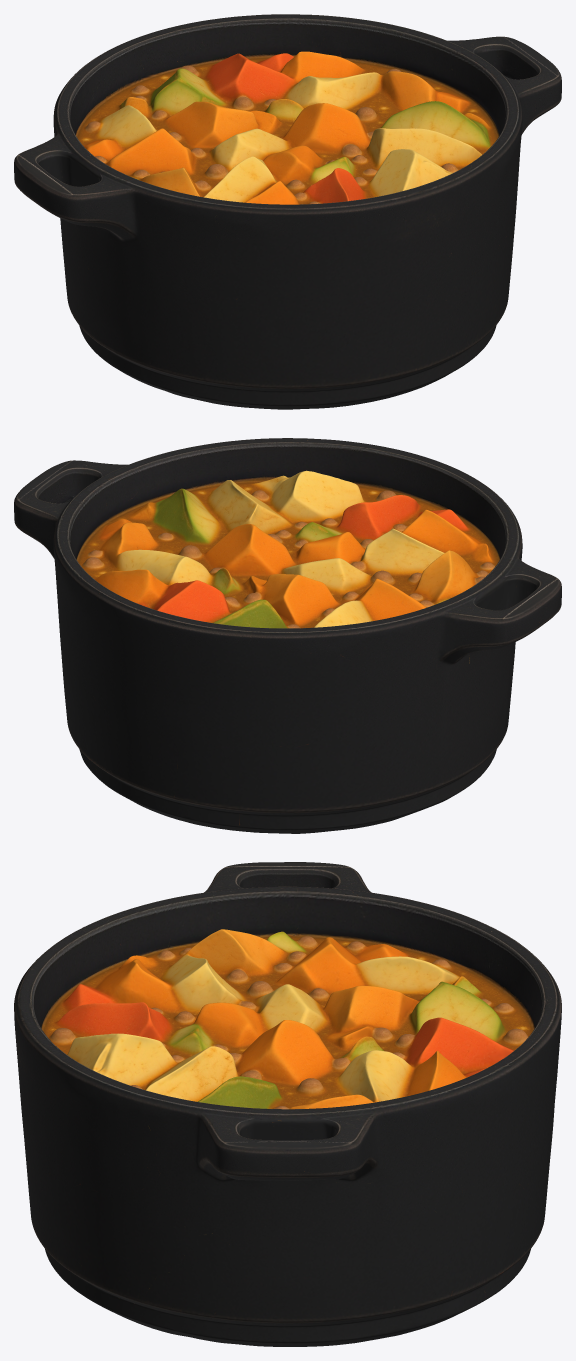
File: stove_pot.glb
3 views of the same model, one above another, from view 1: azimuth 30°, elevation 25°; view 2: azimuth 150°, elevation 25°; view 3: azimuth 270°, elevation 25° (orthographic). The views are drawn at different scales.
Bounding box in the file's own units: 1.9 × 0.7742 × 1.52.
1 material, 1 textured.
